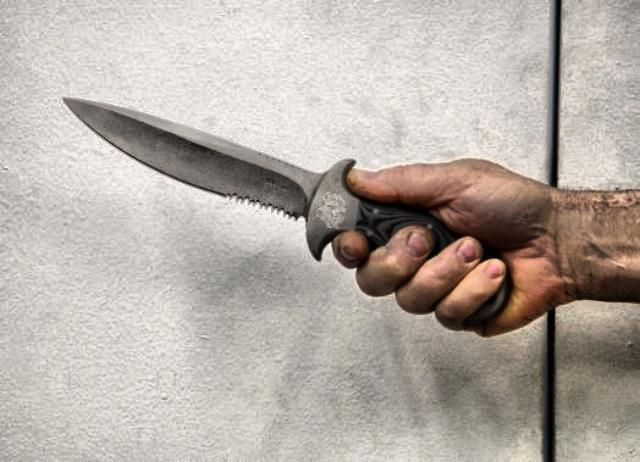knife: (51, 90, 483, 328)
